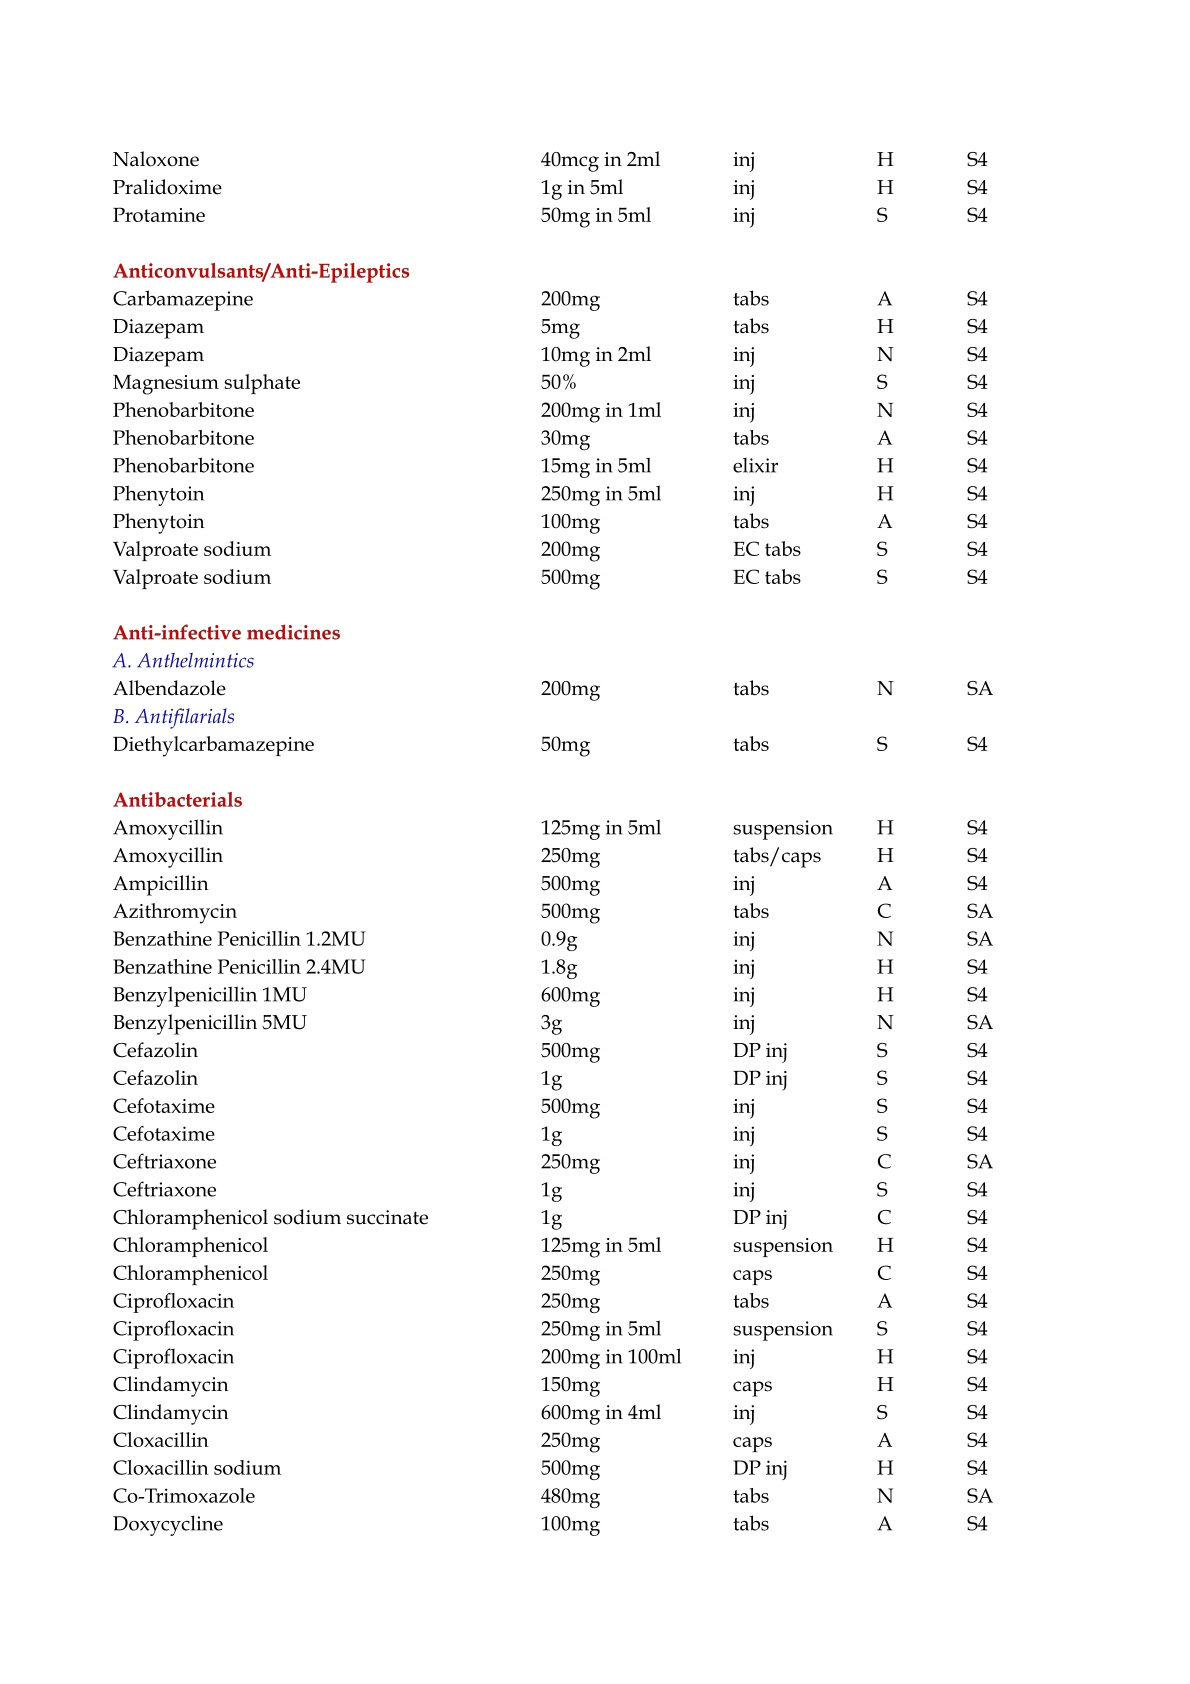nolines: (106, 147, 996, 1539)
